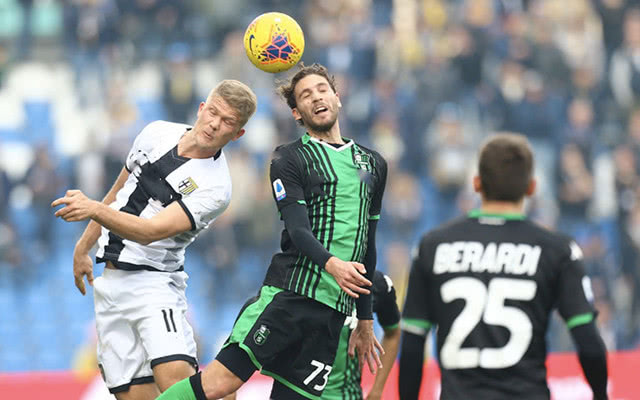ball: (243, 11, 305, 73)
